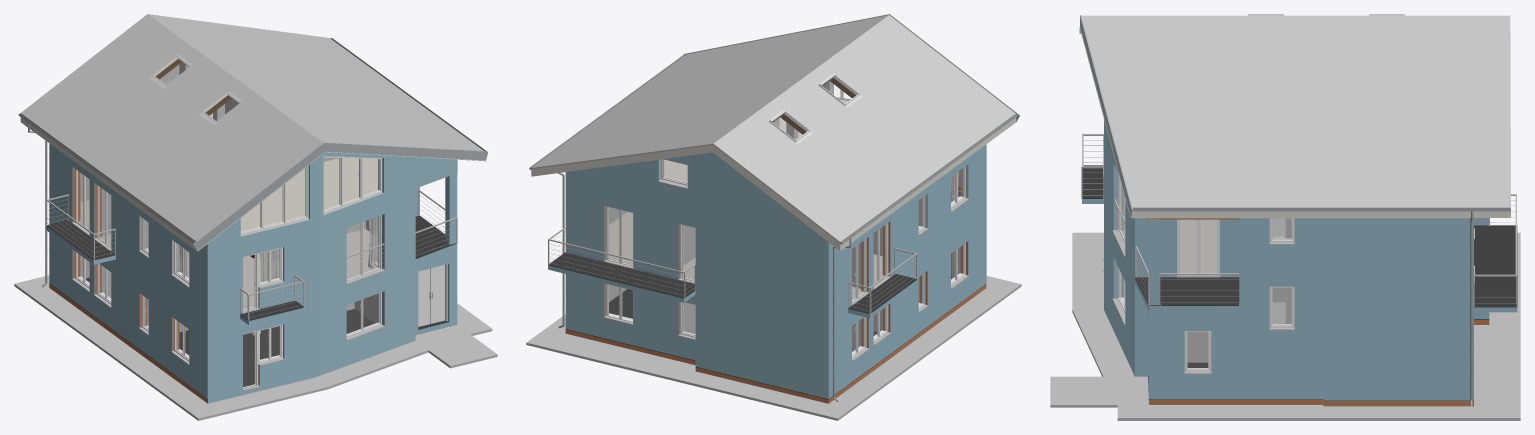
The model's file is Parola.obj.
3 renders of one model, left to right at view 1: azimuth 30°, elevation 25°; view 2: azimuth 150°, elevation 25°; view 3: azimuth 270°, elevation 25°, orthographic. The views are drawn at different scales.
Parts seen in each view (by area): view 1: Mesh1034 ___909_1 Model, Mesh1032 ___907_1 Model, Mesh70 Group24 Model, Mesh265 ____83_1 Model, Mesh504 ___354_1 Model, Mesh576 ___423_1 Model, Mesh431 ___280_1 Model, Mesh298 ___116_1 Model, Mesh785 ___658_1 Model, Mesh1103 ___988_1 Model, Mesh109 Group25 Model, Mesh1022 ___897_1 Model (+17 smaller); view 2: Mesh1034 ___909_1 Model, Mesh1032 ___907_1 Model, Mesh690 ___536_1 Model, Mesh70 Group24 Model, Mesh332 ___162_1 Model, Mesh265 ____83_1 Model, Mesh684 ___531_1 Model, Mesh504 ___354_1 Model, Mesh326 ___156_1 Model, Mesh948 ___812_1 Model, Mesh997 ___872_1 Model, Mesh184 _____7_1 Model (+14 smaller); view 3: Mesh1032 ___907_1 Model, Mesh70 Group24 Model, Mesh457 ___305_1 Model, Mesh304 ___122_1 Model, Mesh653 ___500_1 Model, Mesh632 ___479_1 Model, Mesh184 _____7_1 Model, Mesh1033 ___908_1 Model, Mesh628 ___475_1 Model, Mesh182 _____5_1 Model, Mesh431 ___280_1 Model, Mesh189 ____10_1 Model (+11 smaller).
Part boxes in pixels (x1,y1,x2,y2): Mesh1034 ___909_1 Model: [21, 14, 322, 241]; Mesh1032 ___907_1 Model: [148, 14, 483, 151]; Mesh70 Group24 Model: [14, 275, 497, 420]; Mesh265 ____83_1 Model: [49, 206, 207, 398]; Mesh504 ___354_1 Model: [49, 143, 207, 321]; Mesh576 ___423_1 Model: [208, 218, 315, 321]; Mesh431 ___280_1 Model: [315, 259, 415, 372]; Mesh298 ___116_1 Model: [207, 296, 315, 403]; Mesh785 ___658_1 Model: [315, 181, 415, 295]; Mesh1103 ___988_1 Model: [209, 113, 383, 236]; Mesh109 Group25 Model: [193, 142, 488, 251]; Mesh1022 ___897_1 Model: [315, 152, 457, 218]; Mesh1034 ___909_1 Model: [713, 15, 1015, 242]; Mesh1032 ___907_1 Model: [531, 15, 888, 169]; Mesh690 ___536_1 Model: [696, 213, 828, 321]; Mesh70 Group24 Model: [526, 276, 1021, 420]; Mesh332 ___162_1 Model: [696, 297, 828, 398]; Mesh265 ____83_1 Model: [828, 207, 986, 398]; Mesh684 ___531_1 Model: [566, 175, 695, 279]; Mesh504 ___354_1 Model: [828, 144, 986, 322]; Mesh326 ___156_1 Model: [566, 274, 695, 360]; Mesh948 ___812_1 Model: [695, 152, 828, 244]; Mesh997 ___872_1 Model: [566, 154, 695, 206]; Mesh184 _____7_1 Model: [549, 252, 695, 298]; Mesh1032 ___907_1 Model: [1081, 15, 1510, 207]; Mesh70 Group24 Model: [1050, 232, 1520, 420]; Mesh457 ___305_1 Model: [1149, 305, 1323, 399]; Mesh304 ___122_1 Model: [1323, 306, 1473, 400]; Mesh653 ___500_1 Model: [1323, 218, 1473, 306]; Mesh632 ___479_1 Model: [1240, 218, 1323, 305]; Mesh184 _____7_1 Model: [1474, 225, 1517, 307]; Mesh1033 ___908_1 Model: [1131, 210, 1510, 218]; Mesh628 ___475_1 Model: [1135, 218, 1239, 277]; Mesh182 _____5_1 Model: [1135, 277, 1239, 305]; Mesh431 ___280_1 Model: [1104, 211, 1135, 370]; Mesh189 ____10_1 Model: [1104, 305, 1489, 406].
Bounding box in the file's own units: 1414 × 1045 × 1499.
